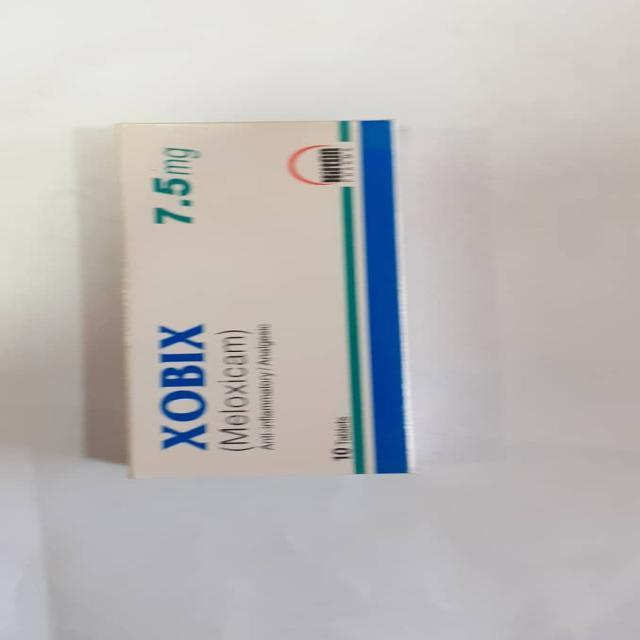drug-name: (154, 320, 212, 455)
